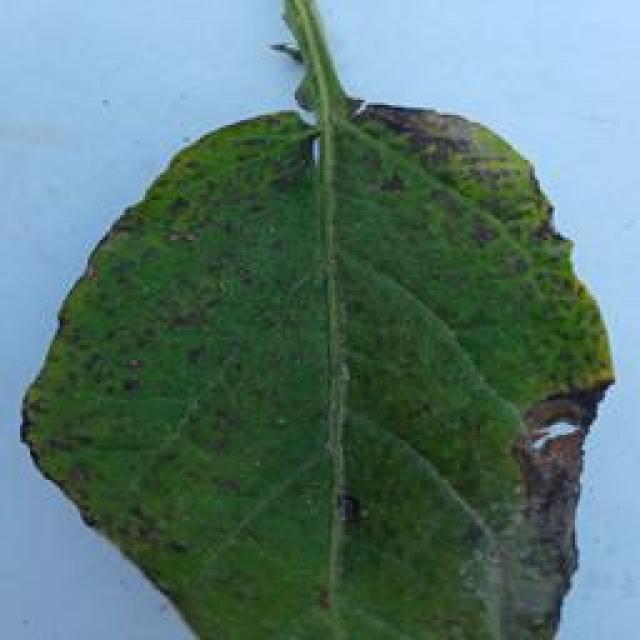Potato_Early_Blight: (12, 92, 640, 640)
